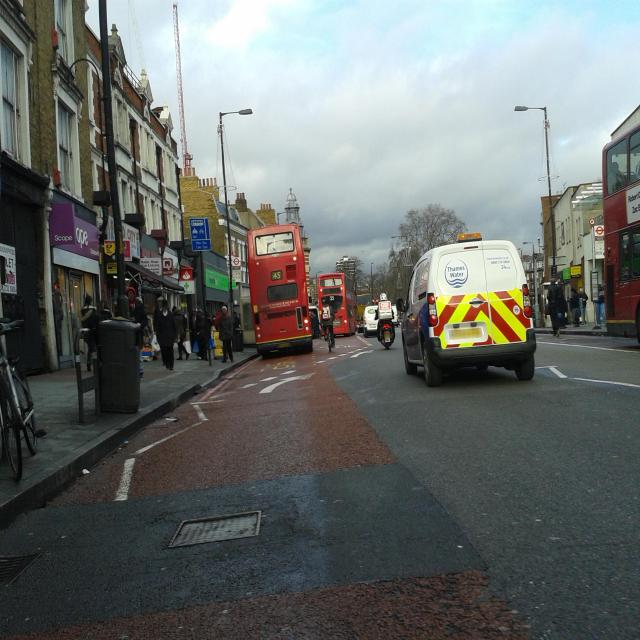Good: (162, 507, 265, 550)
